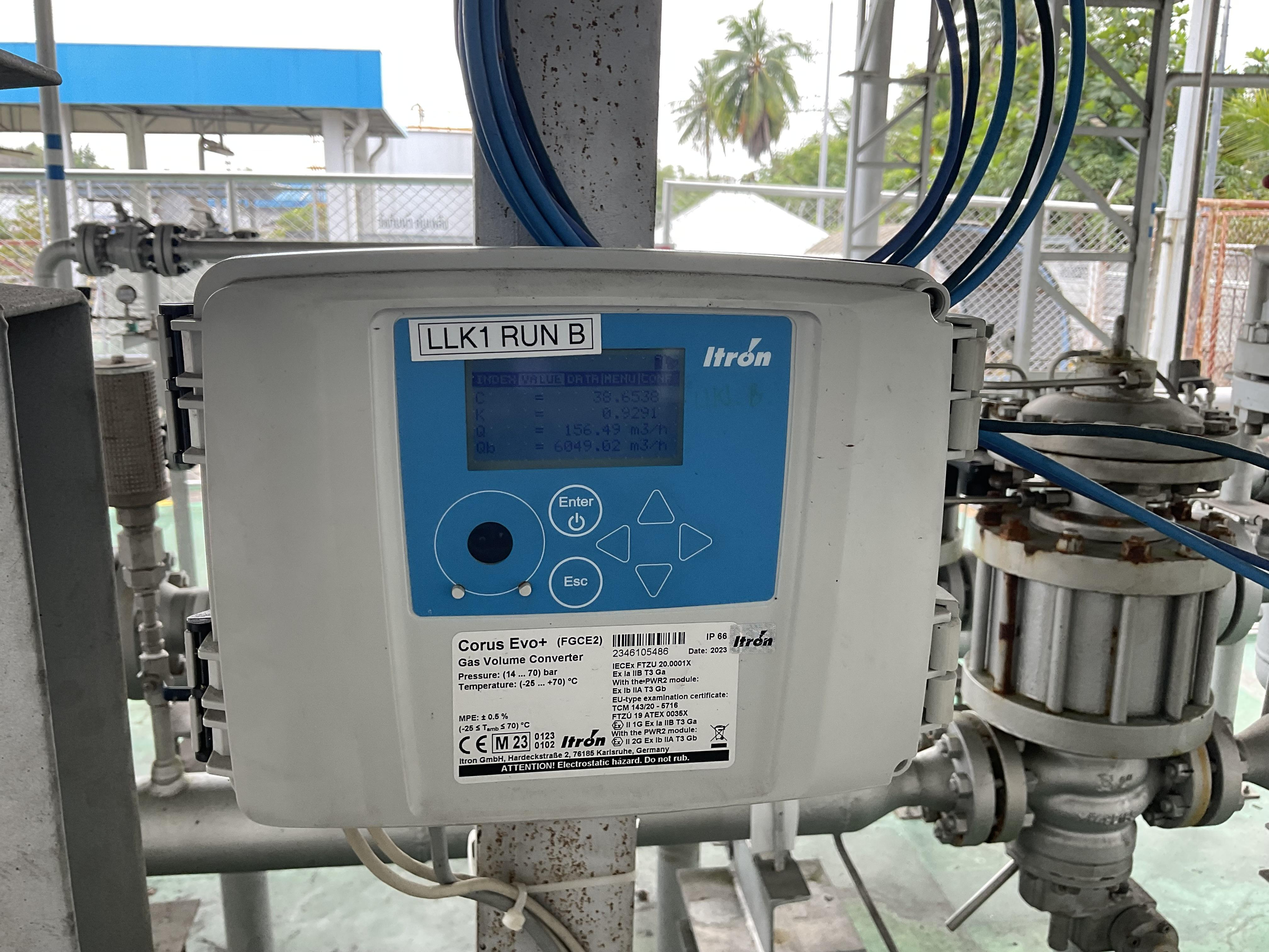digital_screen: (464, 347, 688, 471)
